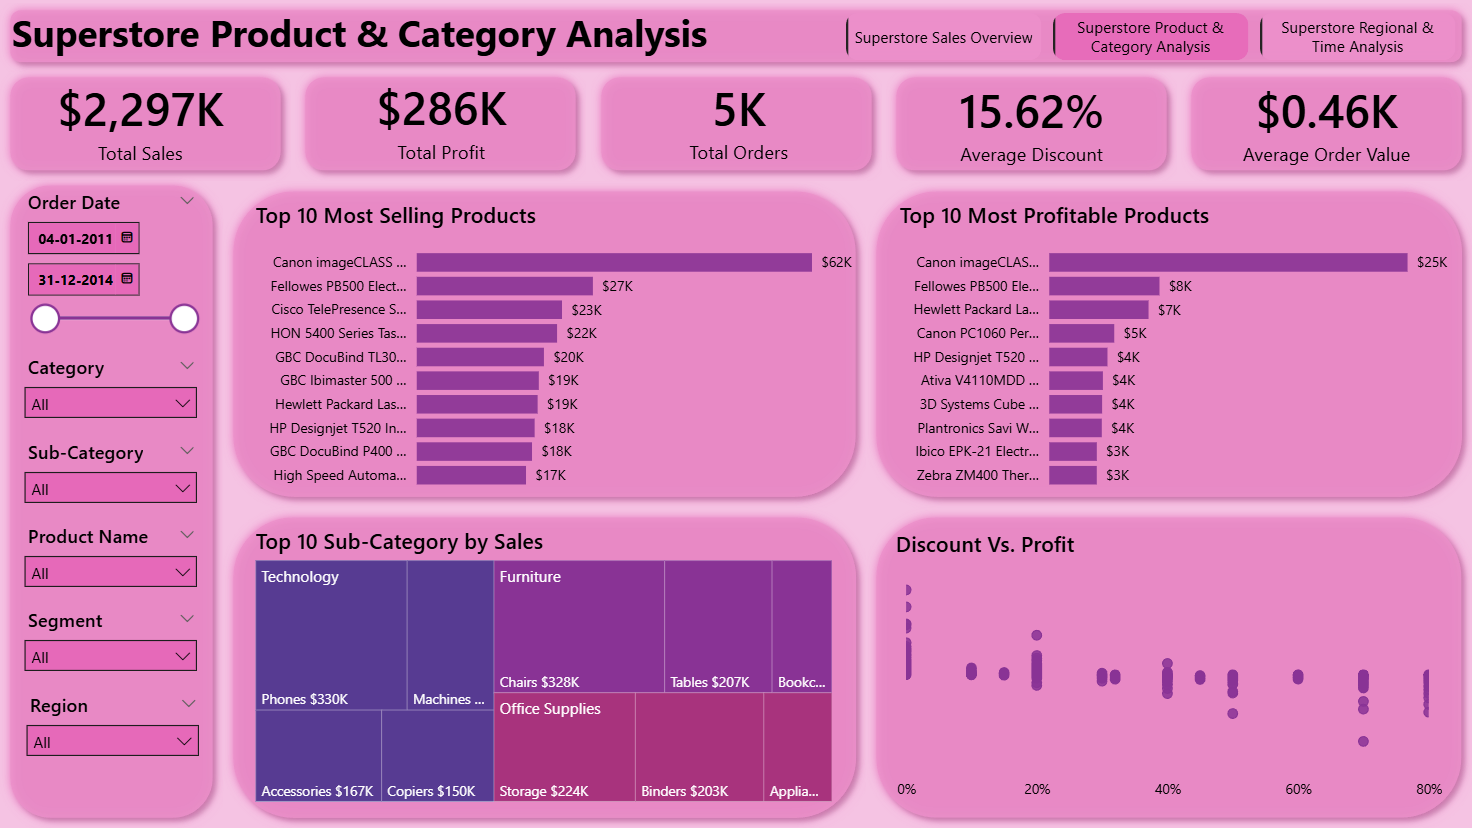

The dashboard page shown, as its layout file describes it:
{"tool":"powerbi","page":{"name":"Superstore Product & Category Analysis","canvas":[1280,720],"ordinal":1},"visuals":[{"type":"shape","box":[193.6,157.3,559.1,283.6],"z":0},{"type":"shape","box":[0,0,1280,63],"z":1000},{"type":"textbox","box":[5.5,0.9,626.4,55.5],"z":2000},{"type":"shape","box":[0,58,253,99],"z":3000},{"type":"card","fields":{"Values":["Orders.Total Sales"]},"box":[29,61.7,186.8,85.2],"z":4000},{"type":"shape","box":[256.8,58,253,99],"z":5000},{"type":"shape","box":[513.5,58,253,99],"z":6000},{"type":"shape","box":[770.2,58,253,99],"z":7000},{"type":"shape","box":[1027,58,253,99],"z":8000},{"type":"card","fields":{"Values":["Orders.Total Profit"]},"box":[290.2,60.8,186.8,85.2],"z":9000},{"type":"card","fields":{"Values":["Orders.Total Orders"]},"box":[548.6,56.2,187.7,95.2],"z":10000},{"type":"card","fields":{"Values":["Orders.Average Discount"]},"box":[803.6,60.9,187.3,89.1],"z":11000},{"type":"card","fields":{"Values":["Orders.Average Order Value"]},"box":[1060,60.9,187.3,89.1],"z":12000},{"type":"barChart","title":"Top 10 Most Selling Products","fields":{"Y":["Orders.Total Sales"],"Category":["Orders.Product Name"]},"box":[217.3,173.6,529.1,260.9],"z":13000},{"type":"shape","box":[0,152,194,568],"z":14000},{"type":"shape","box":[752.7,157.3,527.3,283.6],"z":15000},{"type":"barChart","title":"Top 10 Most Profitable Products","fields":{"Y":["Orders.Total Profit"],"Category":["Orders.Product Name"]},"box":[777.3,173.6,488.2,260.9],"z":16000},{"type":"shape","box":[194.1,440.7,559.5,279.3],"z":17000},{"type":"treemap","title":"Top 10 Sub-Category by Sales","fields":{"Group":["Orders.Category"],"Values":["Orders.Total Sales"],"Details":["Orders.Sub-Category"]},"box":[217.3,457.3,510.9,244.5],"z":18000},{"type":"shape","box":[753.3,441,526.7,279],"z":19000},{"type":"scatterChart","title":"Discount Vs. Profit","fields":{"X":["Orders.Discount"],"Y":["Orders.Profit"]},"box":[773.6,460,485.5,244.5],"z":20000},{"type":"slicer","fields":{"Values":["Orders.Order Date"]},"box":[11.4,160,170.5,154.3],"z":21000},{"type":"slicer","fields":{"Values":["Orders.Category"]},"box":[11.4,303.8,170.5,73.3],"z":22000},{"type":"slicer","fields":{"Values":["Orders.Sub-Category"]},"box":[11.4,377.1,170.5,73.3],"z":23000},{"type":"slicer","fields":{"Values":["Orders.Product Name"]},"box":[11.4,450.5,170.5,73.3],"z":24000},{"type":"slicer","fields":{"Values":["Orders.Segment"]},"box":[11.4,523.8,170.5,73.3],"z":25000},{"type":"slicer","fields":{"Values":["Orders.Region"]},"box":[12.7,597.3,170,73.6],"z":26000},{"type":"pageNavigator","box":[735.5,10.9,530,41.8],"z":26001}]}

Visuals, with their boxes in screenshot pixels (x1, y1, x2, y2), scaled from the page's 1280x720 canvas onto the 1472x828 screenshot:
shape: left=223, top=181, right=866, bottom=507
shape: left=0, top=0, right=1471, bottom=72
textbox: left=6, top=1, right=727, bottom=65
shape: left=0, top=67, right=291, bottom=181
card - Orders.Total Sales: left=33, top=71, right=248, bottom=169
shape: left=295, top=67, right=586, bottom=181
shape: left=591, top=67, right=881, bottom=181
shape: left=886, top=67, right=1177, bottom=181
shape: left=1181, top=67, right=1471, bottom=181
card - Orders.Total Profit: left=334, top=70, right=549, bottom=168
card - Orders.Total Orders: left=631, top=65, right=847, bottom=174
card - Orders.Average Discount: left=924, top=70, right=1140, bottom=172
card - Orders.Average Order Value: left=1219, top=70, right=1434, bottom=172
"Top 10 Most Selling Products" barChart: left=250, top=200, right=858, bottom=500
shape: left=0, top=175, right=223, bottom=827
shape: left=866, top=181, right=1471, bottom=507
"Top 10 Most Profitable Products" barChart: left=894, top=200, right=1455, bottom=500
shape: left=223, top=507, right=867, bottom=827
"Top 10 Sub-Category by Sales" treemap: left=250, top=526, right=837, bottom=807
shape: left=866, top=507, right=1471, bottom=827
"Discount Vs. Profit" scatterChart: left=890, top=529, right=1448, bottom=810
slicer - Orders.Order Date: left=13, top=184, right=209, bottom=361
slicer - Orders.Category: left=13, top=349, right=209, bottom=434
slicer - Orders.Sub-Category: left=13, top=434, right=209, bottom=518
slicer - Orders.Product Name: left=13, top=518, right=209, bottom=602
slicer - Orders.Segment: left=13, top=602, right=209, bottom=687
slicer - Orders.Region: left=15, top=687, right=210, bottom=772
pageNavigator: left=846, top=13, right=1455, bottom=61
